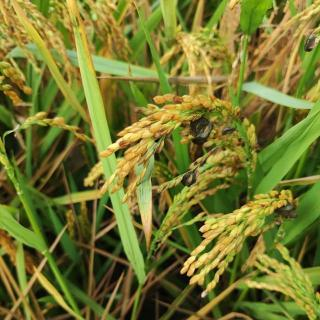Gosong-Palsu: (187, 113, 214, 141), (275, 199, 300, 221), (180, 169, 198, 187), (303, 33, 318, 52)
